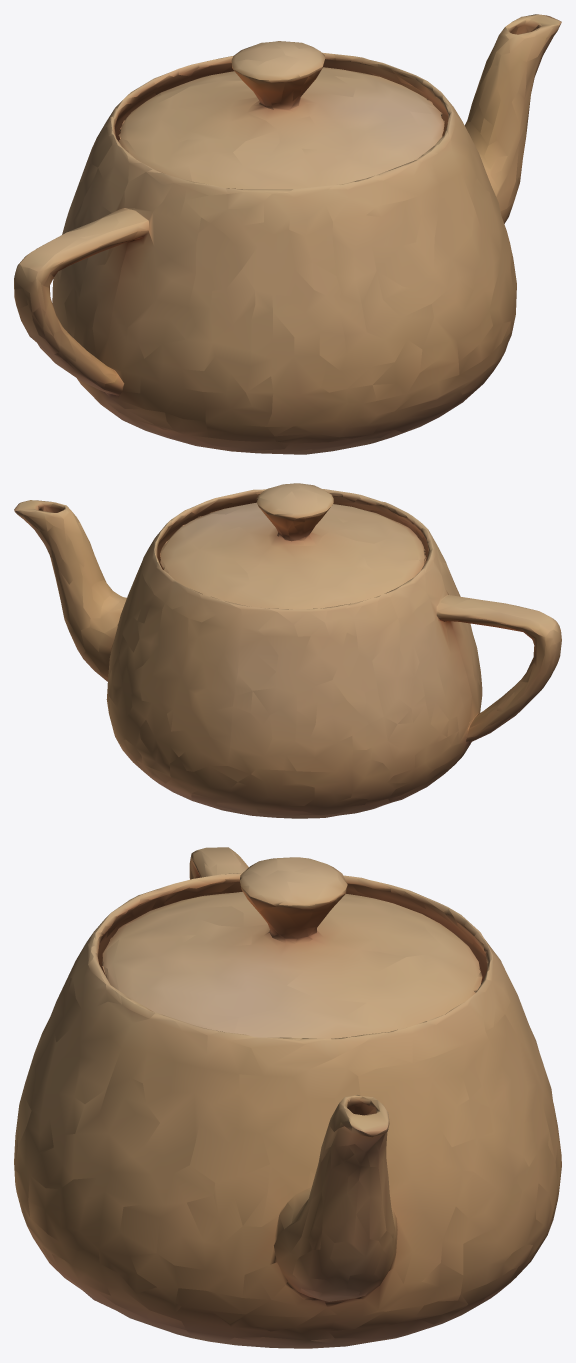
The model's file is 0002_mask_003_brown_teapot.glb.
3 views of the same model, one above another, from view 1: azimuth 30°, elevation 25°; view 2: azimuth 150°, elevation 25°; view 3: azimuth 270°, elevation 25° (orthographic). The views are drawn at different scales.
Visible parts, largest first — view 1: mask_003_object; view 2: mask_003_object; view 3: mask_003_object.
Part boxes in pixels (x1,y1,x2,y2): mask_003_object: (14,14,561,454); mask_003_object: (14,483,561,818); mask_003_object: (14,847,561,1348).
Bounding box in the file's own units: 0.1627 × 0.0853 × 0.1078.
